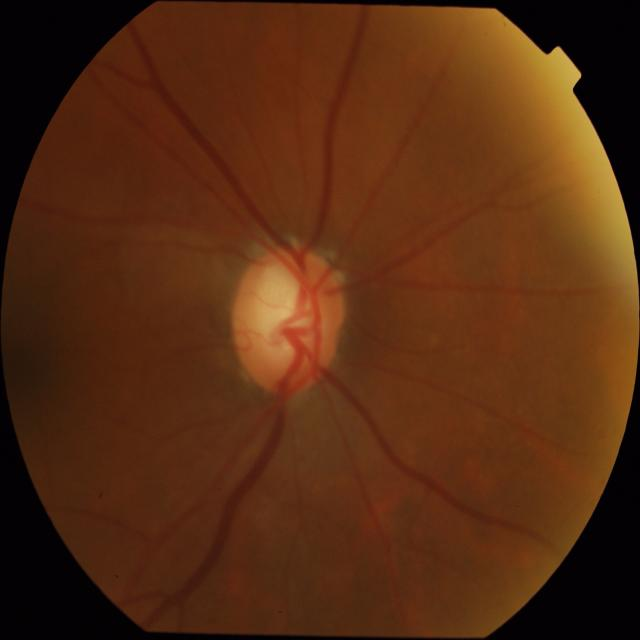OC: (255, 262, 323, 351)
OD: (229, 244, 347, 396)
